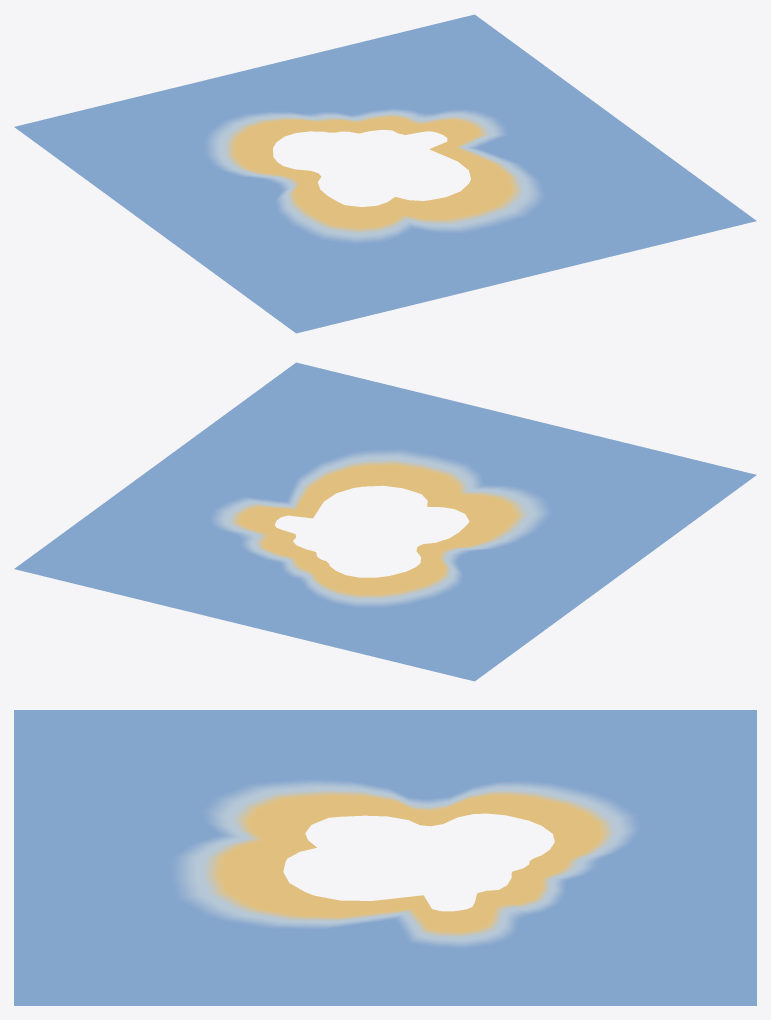
Rendered from Water.fbx.
3 renders of one model, top to bottom at view 1: azimuth 30°, elevation 25°; view 2: azimuth 150°, elevation 25°; view 3: azimuth 270°, elevation 25°, orthographic. The views are drawn at different scales.
Visible parts, largest first — view 1: Water; view 2: Water; view 3: Water.
Boxes of the visible parts, x1=… form: Water: x1=14, y1=14, x2=756, y2=333; Water: x1=14, y1=362, x2=756, y2=681; Water: x1=14, y1=710, x2=756, y2=1005.
Size of the model in its own units: 14210 by 0.000458 by 15075.
